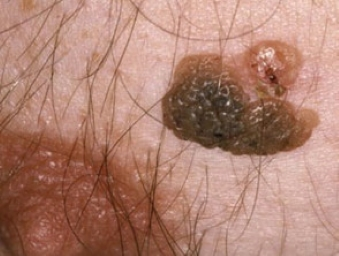seborrheic keratosis: (147, 30, 321, 170)
